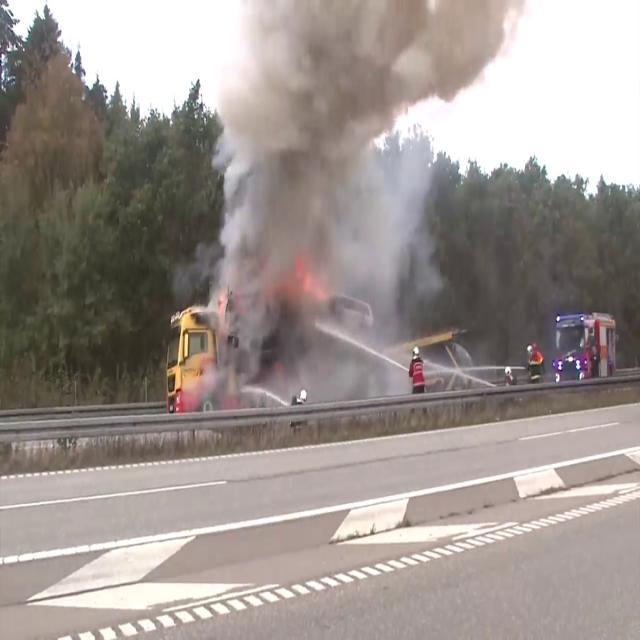Smoke: (189, 0, 491, 378)
